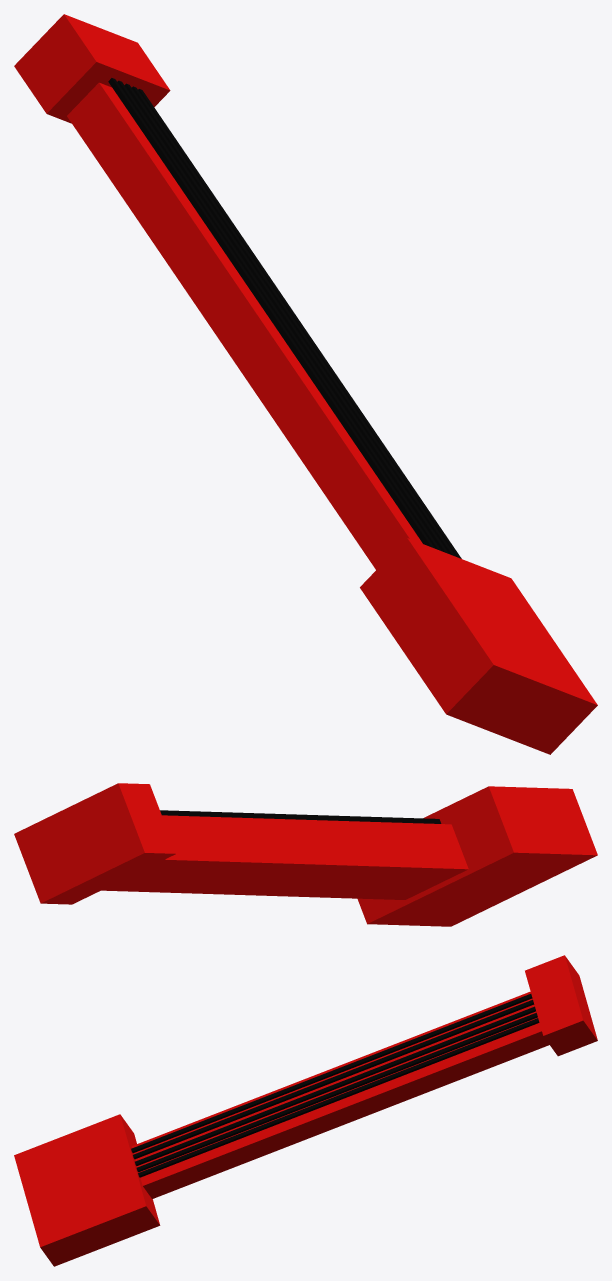
The model's file is guitar.glb.
3 views of the same model, one above another, from view 1: azimuth 30°, elevation 25°; view 2: azimuth 150°, elevation 25°; view 3: azimuth 270°, elevation 25° (orthographic). The views are drawn at different scales.
Visible parts, largest first — view 1: Cube.002, Cube, Cube.001, String5, String3, String2, String4, String1; view 2: Cube.002, Cube, Cube.001, String5; view 3: Cube.002, Cube, Cube.001, String5, String4, String1, String2, String3.
Boxes of the visible parts, x1,y1,x2,y2 form: Cube.002: (67,82,422,569); Cube: (360,538,597,754); Cube.001: (14,14,170,123); String5: (108,78,434,548); String3: (124,83,448,553); String2: (132,86,455,556); String4: (117,80,441,551); String1: (138,89,461,558); Cube.002: (101,815,468,899); Cube: (357,786,597,926); Cube.001: (14,783,176,904); String5: (160,810,441,823); Cube.002: (131,991,549,1198); Cube: (14,1114,160,1266); Cube.001: (525,955,597,1056); String5: (131,994,532,1153); String4: (133,999,534,1159); String1: (138,1018,539,1177); String2: (136,1012,537,1172); String3: (135,1006,535,1165).
Size of the model in its own units: 5.93 by 16.01 by 29.42.
